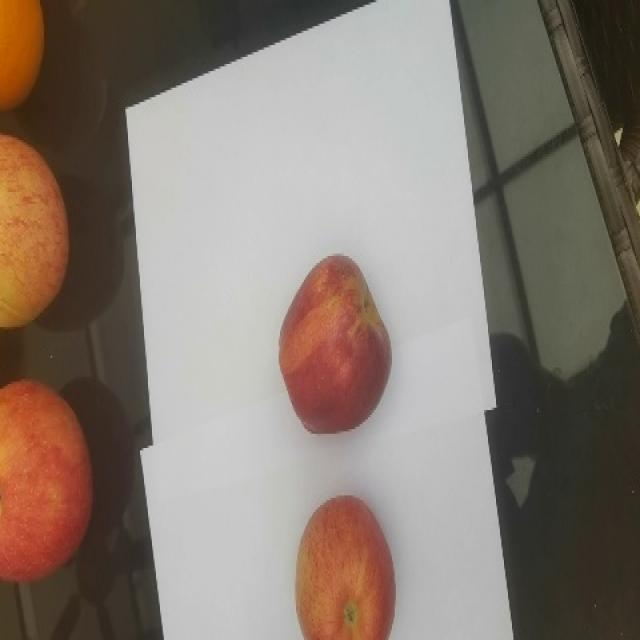Apple: (278, 252, 392, 434), (0, 377, 93, 583), (294, 494, 396, 639), (0, 132, 70, 329)
Orange: (0, 0, 45, 112)
